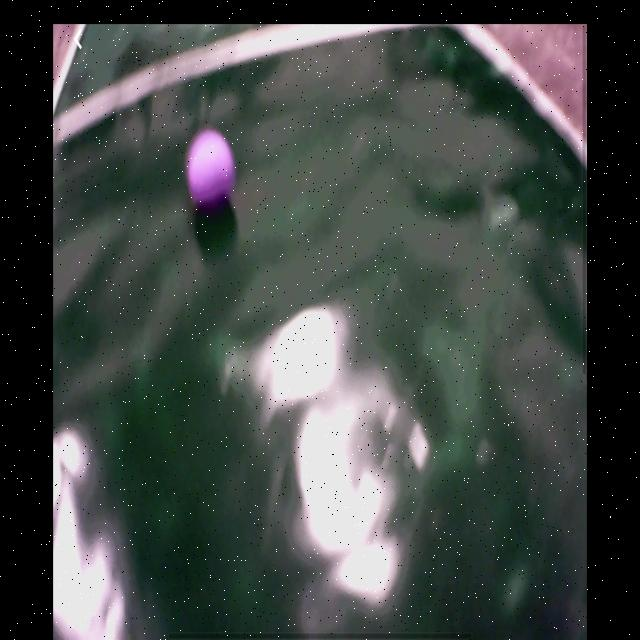ball: (188, 129, 234, 209)
